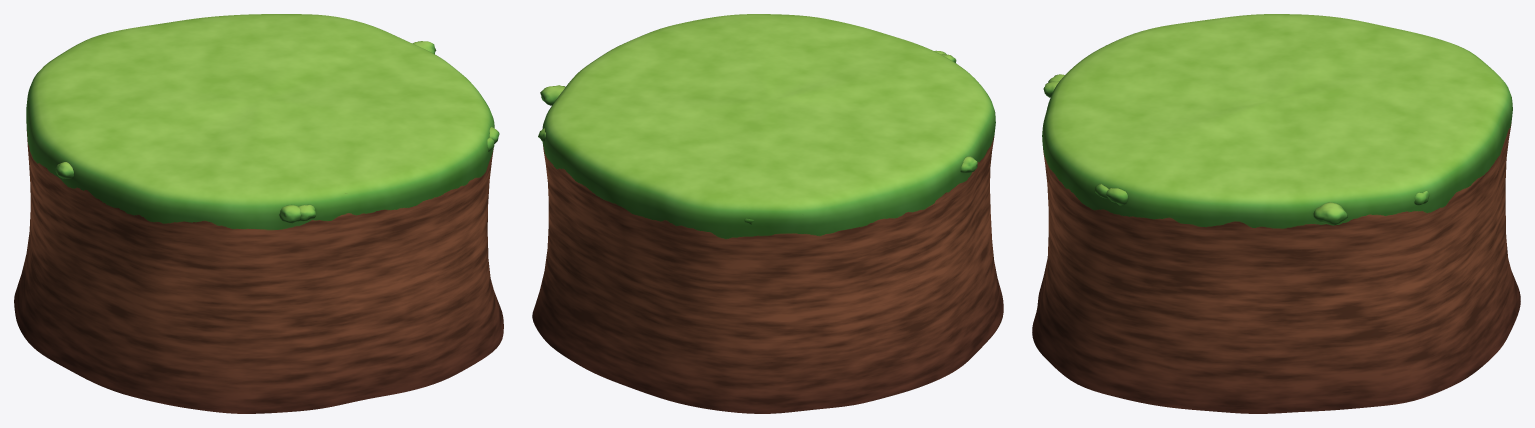
File: Env_Mesa_2.glb
3 views of the same model, side by side, from view 1: azimuth 30°, elevation 25°; view 2: azimuth 150°, elevation 25°; view 3: azimuth 270°, elevation 25° (orthographic). The views are drawn at different scales.
Parts seen in each view (by area): view 1: Env_Mesa_2.001; view 2: Env_Mesa_2.001; view 3: Env_Mesa_2.001.
Boxes of the visible parts, x1,y1,x2,y2 form: Env_Mesa_2.001: (14,14,503,413); Env_Mesa_2.001: (532,14,1003,413); Env_Mesa_2.001: (1032,14,1520,413).
Bounding box in the file's own units: 1.96 × 0.9707 × 2.
Materials: 1 (1 with a texture image).
